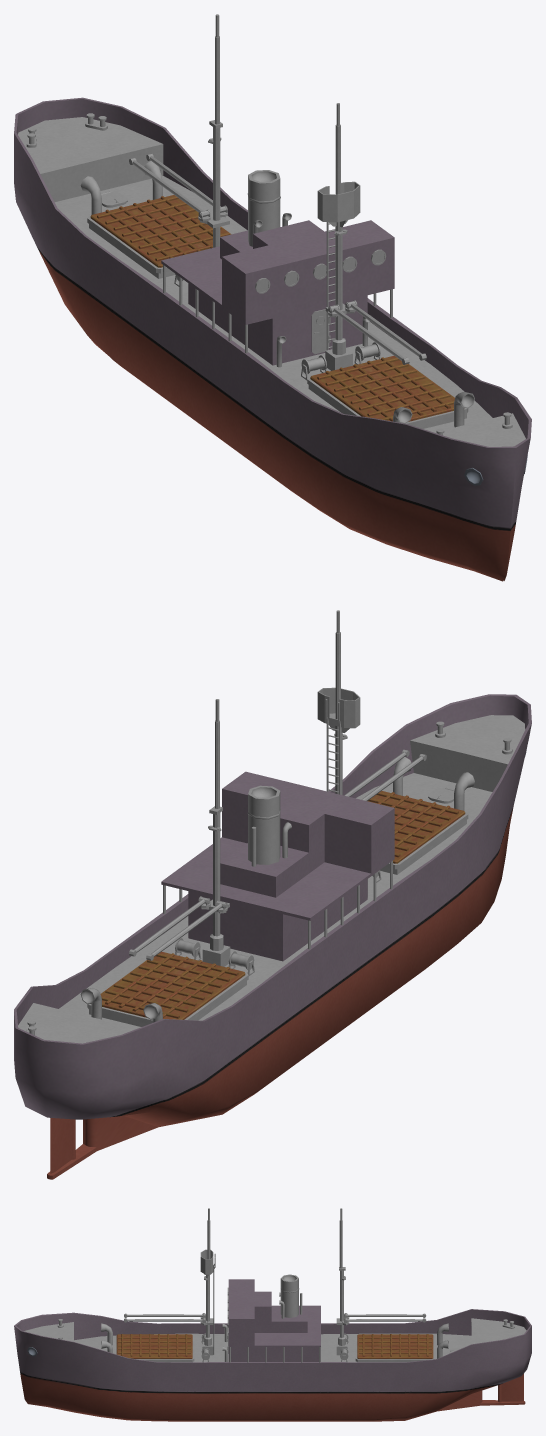
The model's file is merchant_ship.glb.
3 views of the same model, one above another, from view 1: azimuth 30°, elevation 25°; view 2: azimuth 150°, elevation 25°; view 3: azimuth 270°, elevation 25° (orthographic). The views are drawn at different scales.
Parts seen in each view (by area): view 1: sasha-class.002_2, sasha-class_1, sasha-class.001_0; view 2: sasha-class.002_2, sasha-class_1, sasha-class.001_0; view 3: sasha-class.002_2, sasha-class_1, sasha-class.001_0.
Boxes of the visible parts, x1,y1,x2,y2 form: sasha-class.002_2: (14, 97, 531, 581); sasha-class_1: (26, 14, 512, 435); sasha-class.001_0: (87, 195, 468, 428); sasha-class.002_2: (14, 694, 531, 1179); sasha-class_1: (26, 610, 512, 1042); sasha-class.001_0: (87, 791, 468, 1026); sasha-class.002_2: (14, 1279, 531, 1421); sasha-class_1: (57, 1208, 514, 1362); sasha-class.001_0: (115, 1334, 434, 1362).
Bounding box in the file's own units: 14.84 × 33.9 × 81.55.
3 materials, 3 textured.
